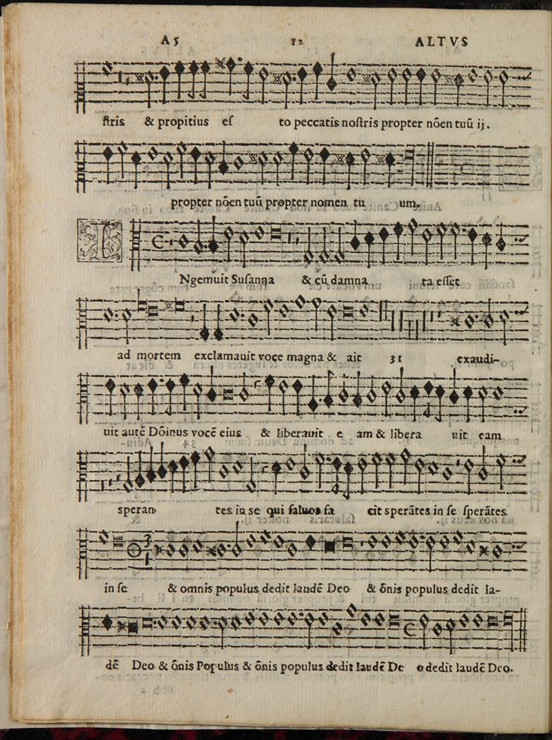breve rest: (114, 56, 125, 107)
c clef_9: (67, 57, 90, 120)
custos_5: (514, 61, 530, 92)
fusa_4: (195, 52, 211, 104), (183, 53, 199, 103), (242, 56, 252, 104)
minim rest: (122, 56, 131, 109)
minim_5: (383, 61, 398, 112), (479, 62, 494, 109), (428, 62, 442, 108), (399, 62, 412, 107), (256, 60, 268, 106), (497, 64, 509, 108)
minim_6: (139, 64, 156, 113), (369, 64, 382, 112), (279, 65, 291, 111)
point: (231, 51, 246, 70), (148, 69, 161, 87), (276, 70, 289, 88), (286, 70, 298, 86), (250, 65, 259, 80), (305, 57, 314, 70)
semibreve_4: (97, 52, 114, 81)
semibreve_5: (343, 60, 359, 87), (465, 61, 479, 87)
semiminim_3: (223, 51, 236, 101)
semiminim_4: (310, 56, 323, 104), (173, 56, 185, 104)
semiminim_5: (157, 60, 170, 108), (413, 61, 426, 108), (295, 61, 308, 107)
semiminim_6: (451, 66, 465, 109)
semiminim_7: (324, 50, 339, 97)
sharp: (208, 50, 230, 76), (266, 66, 286, 88), (355, 66, 375, 88), (438, 68, 458, 90), (130, 66, 148, 87)
